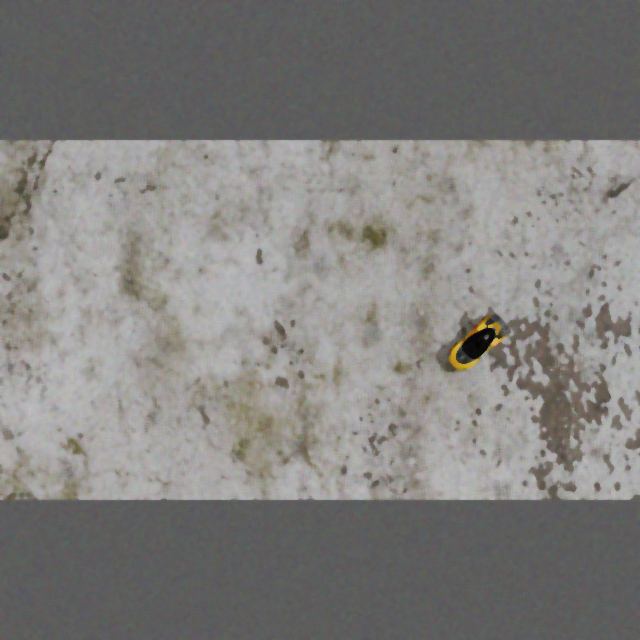car: (441, 309, 515, 377)
